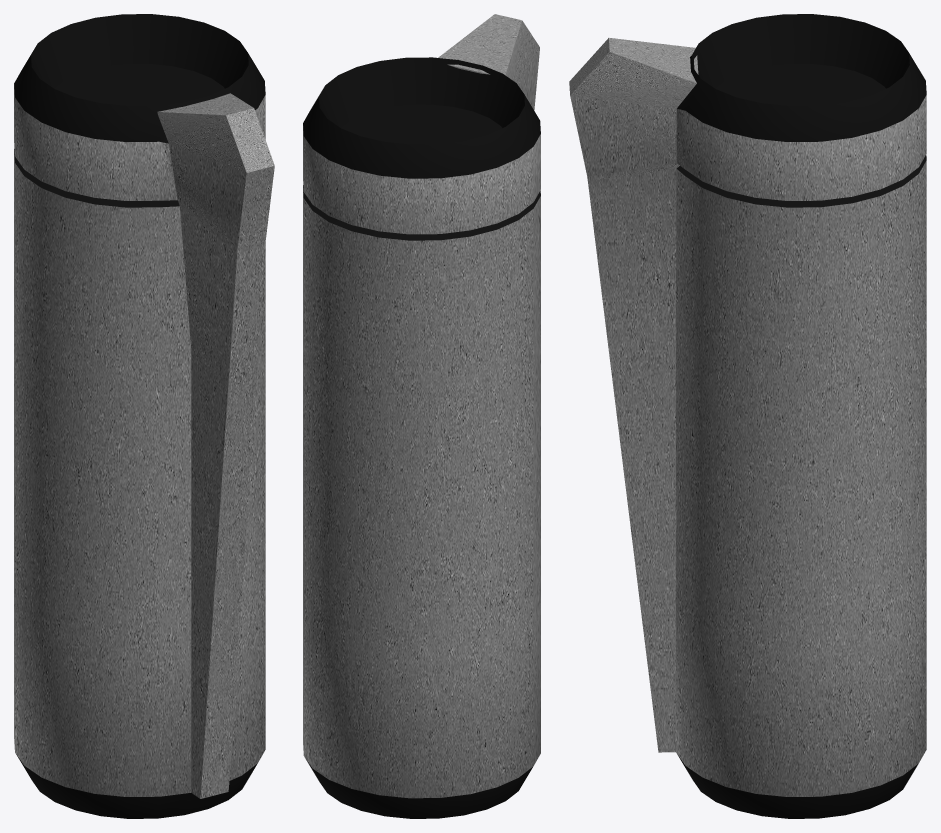
File: FBX_ModuleSlant.fbx
The picture shows the model from 3 angles, left to right: view 1: azimuth 30°, elevation 25°; view 2: azimuth 150°, elevation 25°; view 3: azimuth 270°, elevation 25°; orthographic projection. The views are drawn at different scales.
Parts seen in each view (by area): view 1: Module Slant Export; view 2: Module Slant Export; view 3: Module Slant Export.
Part boxes in pixels (x1,y1,x2,y2): Module Slant Export: (14,14,274,818); Module Slant Export: (303,14,540,818); Module Slant Export: (569,14,926,818).
Bounding box in the file's own units: 1.39 × 1.98 × 4.46.
